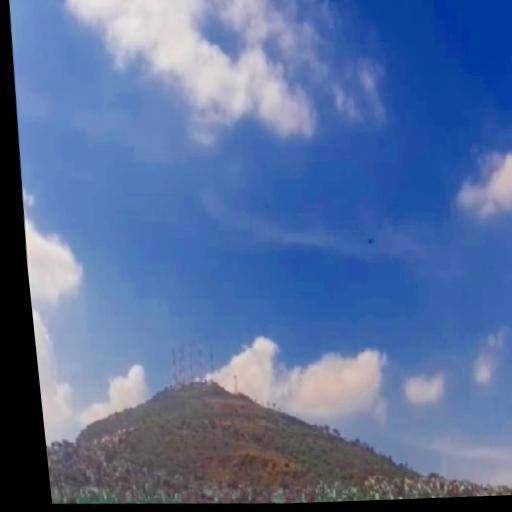drones: (363, 232, 376, 250)
